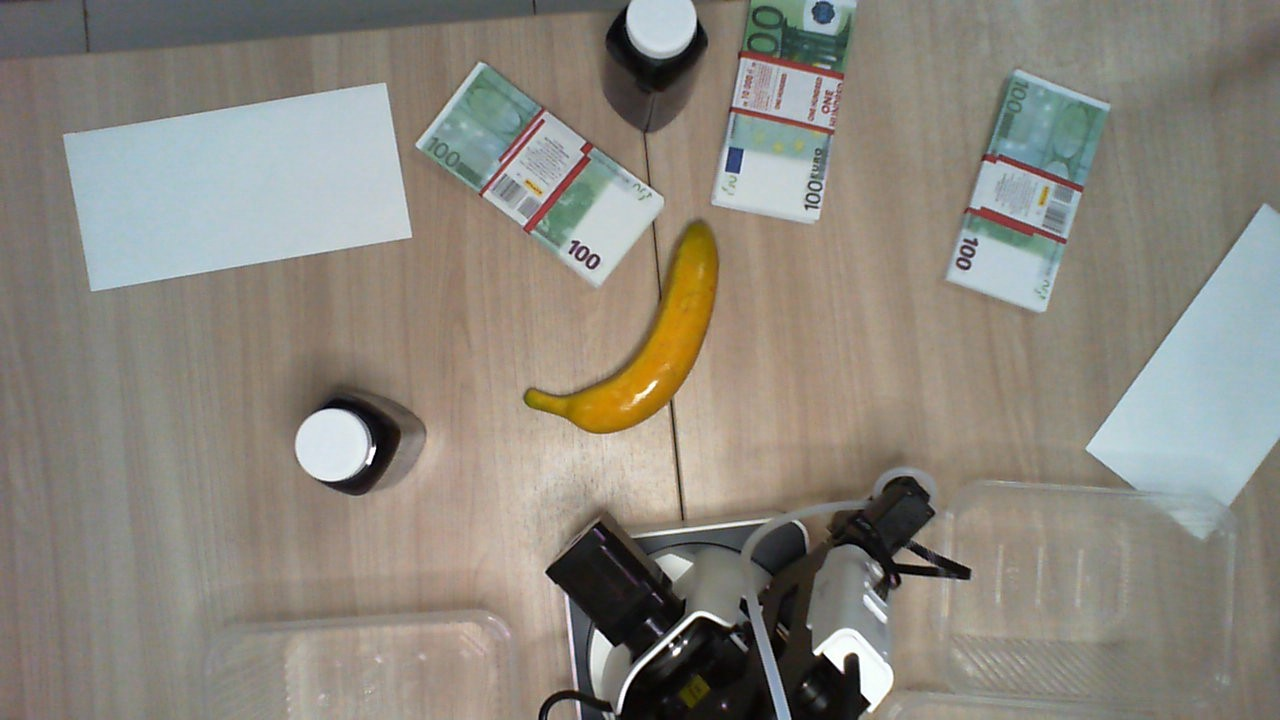banana: (523, 220, 720, 436)
bottle: (292, 393, 400, 497), (606, 1, 708, 88)
convert: (61, 81, 416, 296), (1083, 204, 1280, 542)
money: (416, 59, 666, 285), (943, 66, 1112, 315), (707, 1, 855, 225)
